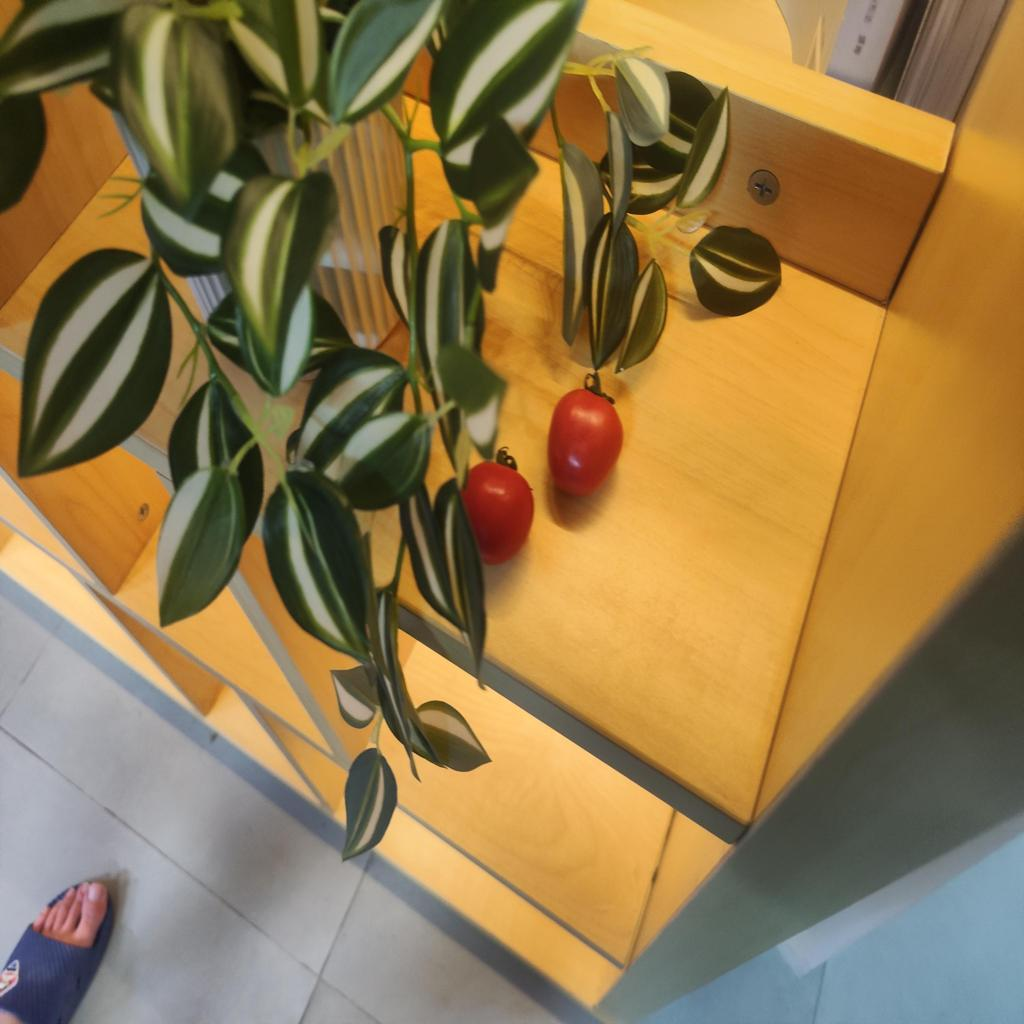tomato: (553, 383, 625, 496), (459, 452, 535, 558)
